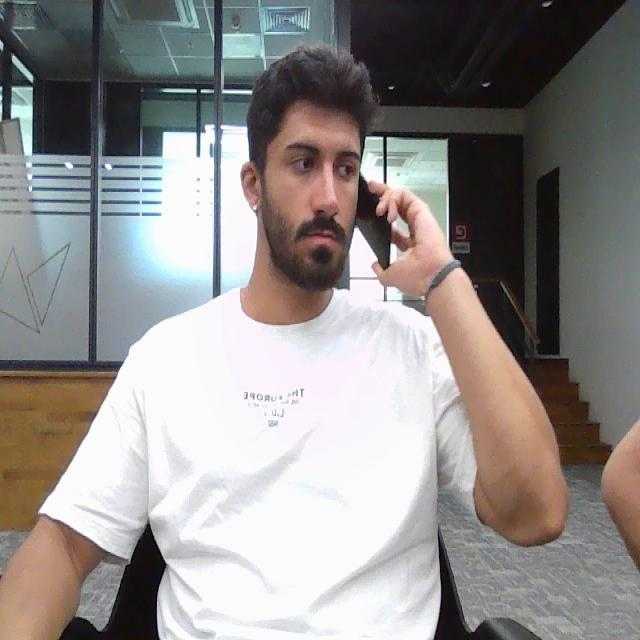phone: (354, 170, 394, 276)
